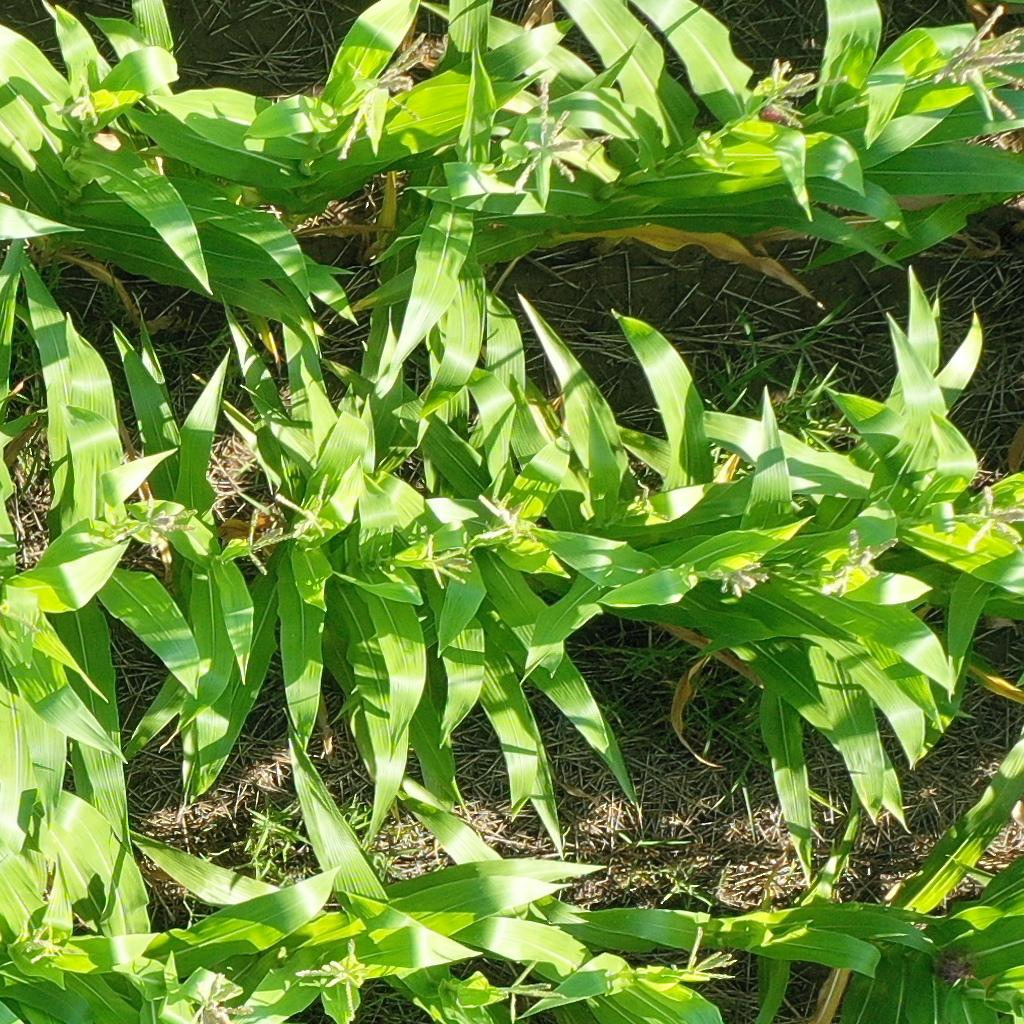Tassel: (335, 33, 436, 168), (513, 75, 616, 198), (936, 1, 1024, 123), (758, 56, 852, 127), (818, 526, 901, 600), (104, 489, 201, 552), (941, 481, 1024, 553), (292, 940, 369, 1015), (496, 952, 567, 1024), (274, 471, 335, 542), (240, 506, 302, 575), (670, 924, 738, 986), (467, 493, 537, 549), (188, 970, 257, 1024), (417, 531, 475, 594), (48, 72, 107, 130), (719, 557, 772, 598), (620, 482, 667, 521), (25, 923, 66, 967)
